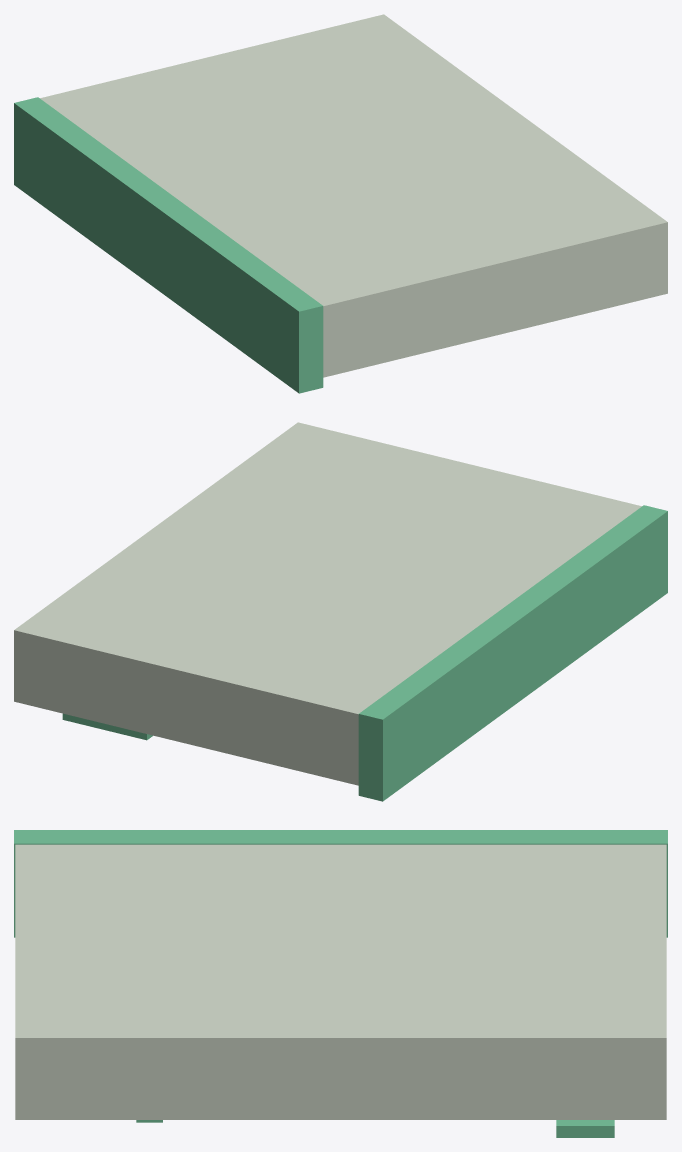
Rendered from greenray.glb.
The picture shows the model from 3 angles, top to bottom: view 1: azimuth 30°, elevation 25°; view 2: azimuth 150°, elevation 25°; view 3: azimuth 270°, elevation 25°; orthographic projection. The views are drawn at different scales.
Parts seen in each view (by area): view 1: Green Ray carton, Green Ray spine; view 2: Green Ray carton, Green Ray spine, Green Ray edition chip; view 3: Green Ray carton, Green Ray spine, Green Ray edition chip.
Boxes of the visible parts, left/top/right/bottom form: Green Ray carton: left=40, top=14, right=667, bottom=377; Green Ray spine: left=14, top=97, right=323, bottom=393; Green Ray carton: left=14, top=422, right=641, bottom=785; Green Ray spine: left=358, top=505, right=667, bottom=801; Green Ray edition chip: left=62, top=713, right=152, bottom=740; Green Ray carton: left=15, top=844, right=666, bottom=1119; Green Ray spine: left=14, top=830, right=667, bottom=937; Green Ray edition chip: left=556, top=1120, right=614, bottom=1137.
Bounding box in the file's own units: 1.84 × 0.4825 × 2.46.
